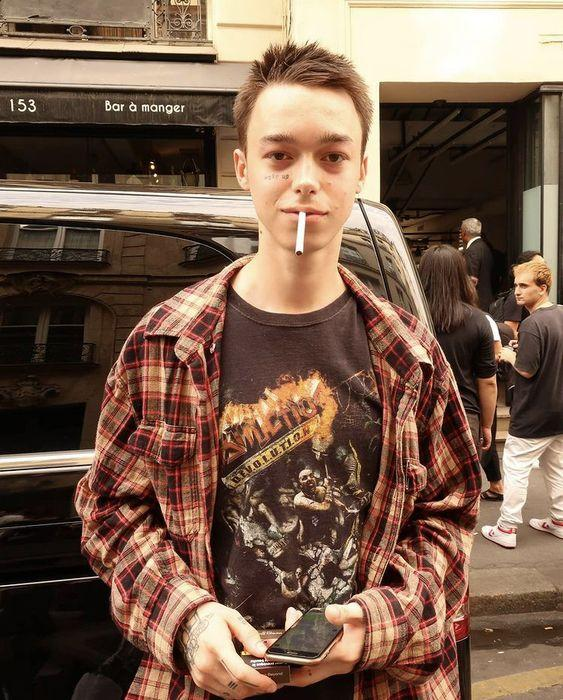cigarette: (295, 211, 306, 257)
